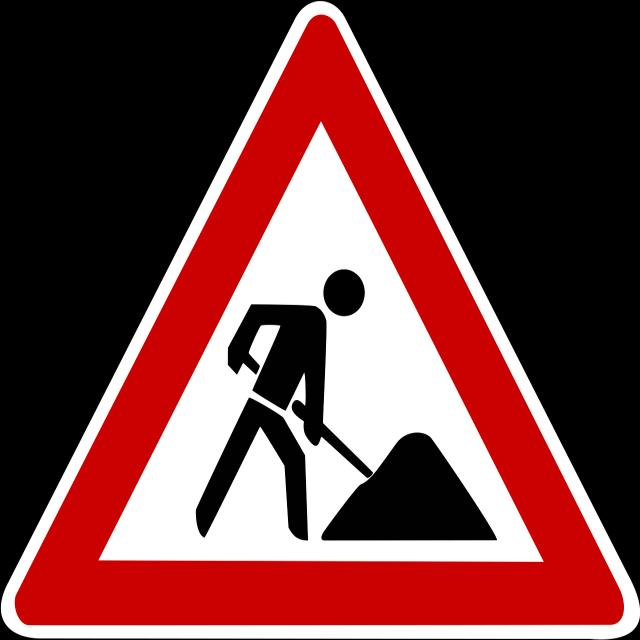roadwork: (2, 1, 640, 640)
